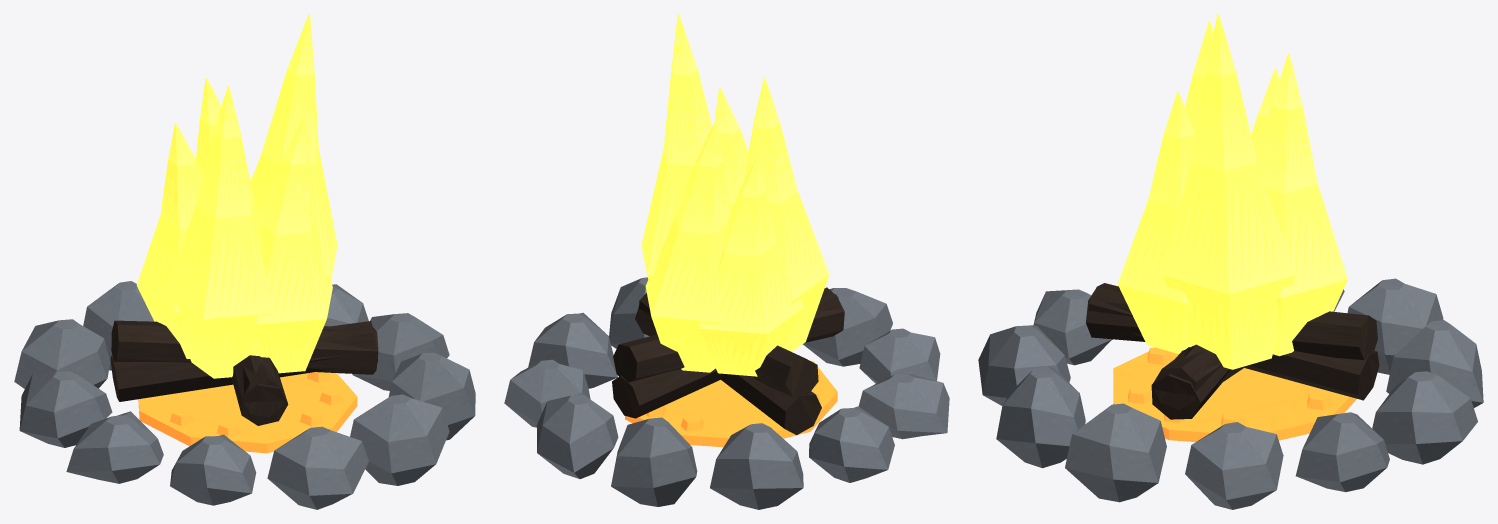
File: campfire_static.glb
The picture shows the model from 3 angles, left to right: view 1: azimuth 30°, elevation 25°; view 2: azimuth 150°, elevation 25°; view 3: azimuth 270°, elevation 25°; orthographic projection. The views are drawn at different scales.
Visible parts, largest first — view 1: campfire_root, flame_node_2, flame_node_1, flame_node_0, flame_node_3, flame_node_4; view 2: campfire_root, flame_node_3, flame_node_4, flame_node_2, flame_node_0, flame_node_1; view 3: campfire_root, flame_node_0, flame_node_4, flame_node_1, flame_node_2, flame_node_3.
Part boxes in pixels (box(x1,y1,x2,y2)): campfire_root: box(14, 281, 475, 509); flame_node_2: box(165, 85, 274, 378); flame_node_1: box(253, 117, 332, 373); flame_node_0: box(250, 14, 337, 285); flame_node_3: box(136, 123, 202, 358); flame_node_4: box(196, 78, 251, 182); campfire_root: box(504, 277, 949, 509); flame_node_3: box(698, 157, 803, 376); flame_node_4: box(645, 122, 730, 372); flame_node_2: box(743, 78, 829, 351); flame_node_0: box(641, 14, 730, 283); flame_node_1: box(714, 87, 748, 213); campfire_root: box(978, 278, 1483, 509); flame_node_0: box(1163, 14, 1295, 369); flame_node_4: box(1257, 53, 1347, 356); flame_node_1: box(1117, 91, 1195, 353); flame_node_2: box(1185, 21, 1213, 134); flame_node_3: box(1251, 68, 1279, 160).
Bounding box in the file's own units: 1.3 × 1.25 × 1.3.
4 materials, 4 textured.
